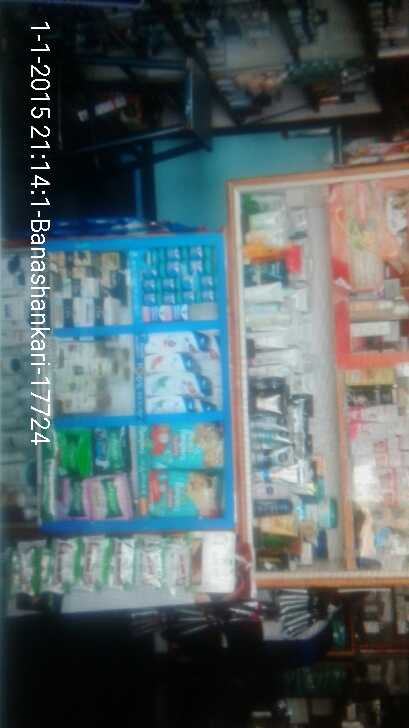pharmacy: (129, 421, 226, 468), (137, 465, 220, 518), (85, 469, 135, 518), (50, 432, 93, 473), (53, 475, 85, 520), (93, 426, 126, 468)
